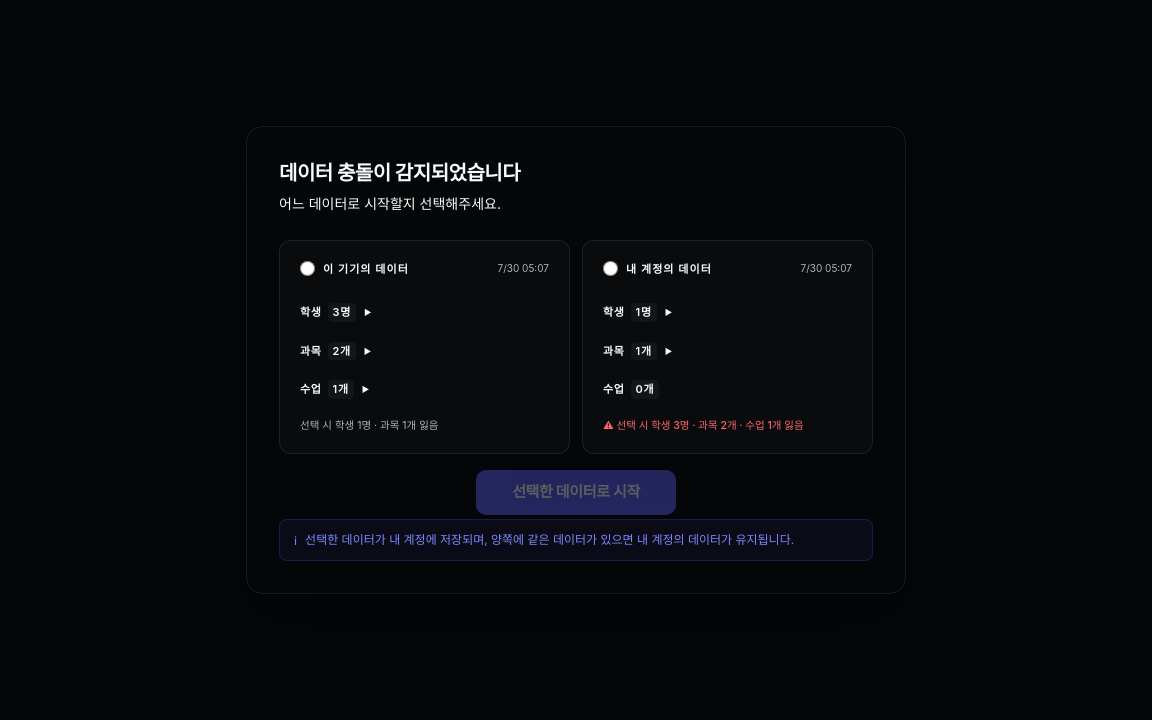
DataConflictModal › 로컬 카드에 학생 정보가 렌더된다 (접기/펼치기, 이름+성별+생년월일)
The image size is (1152, 720).
Check: the text "김철수" is not shown
Note: 학생 섹션 펼치기 (학생 3명 라벨 클릭)
Click the text "3명" at (342, 312), box [328, 303, 356, 322]
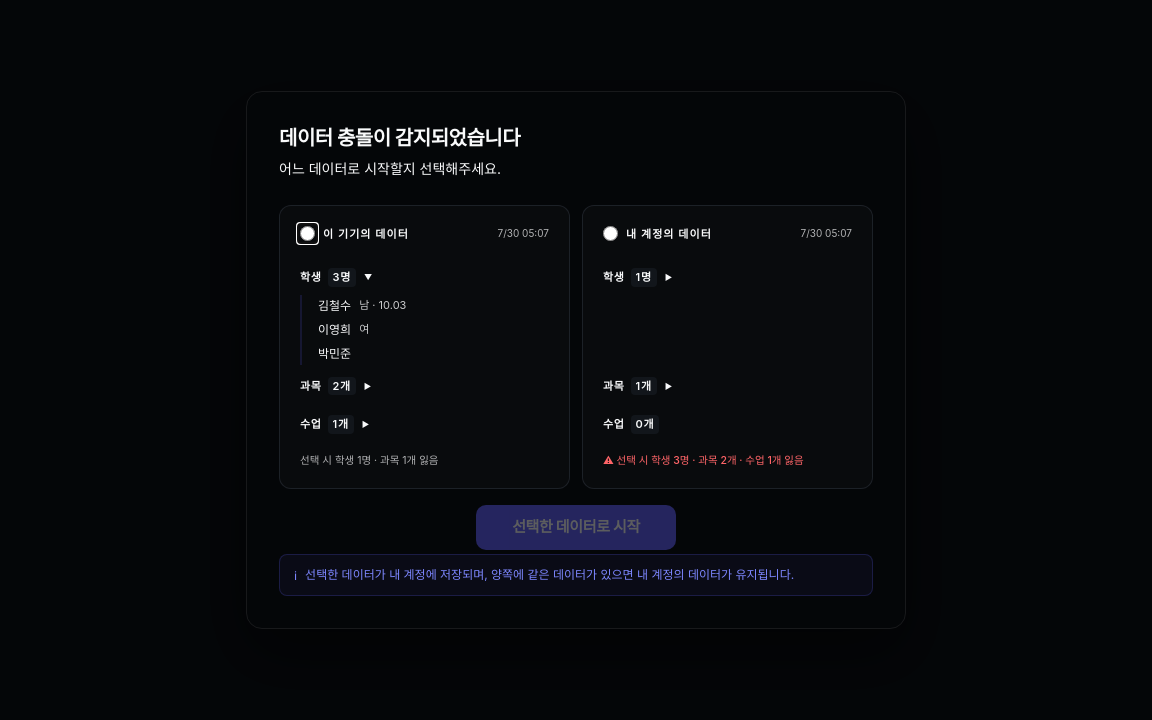
Check: the text "김철수" is shown, box [318, 298, 351, 314]
Check: the text "이영희" is shown, box [318, 322, 351, 338]
Check: the text "박민준" is shown, box [318, 346, 351, 362]
